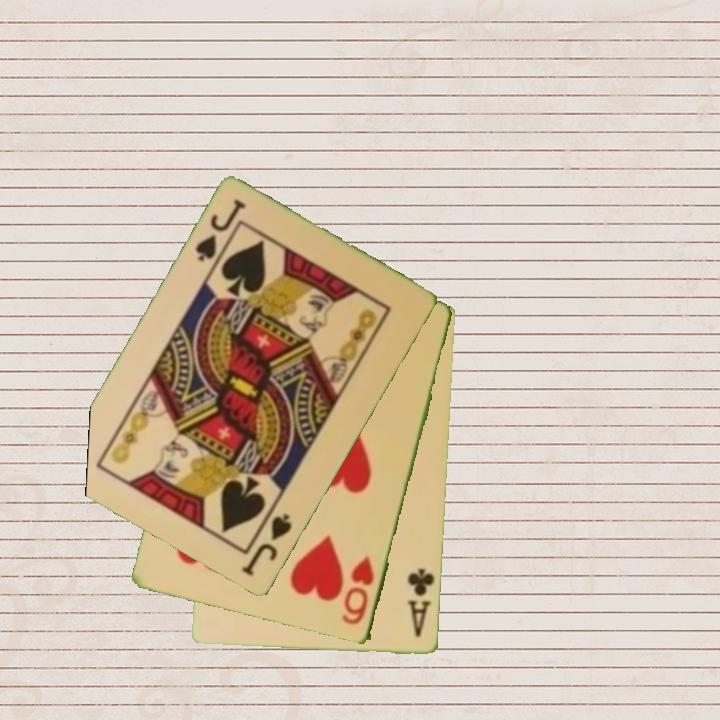6h: (339, 552, 377, 629)
Ac: (404, 565, 438, 640)
Js: (191, 195, 249, 265), (238, 510, 295, 580)
